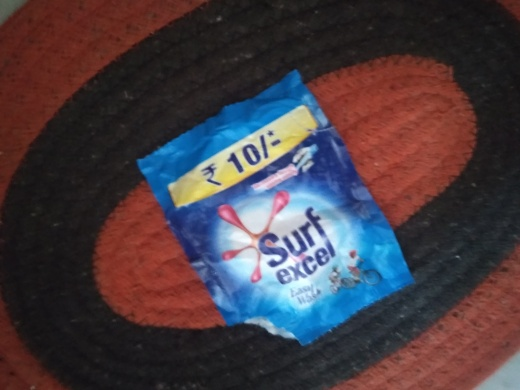surf: (110, 83, 418, 338)
